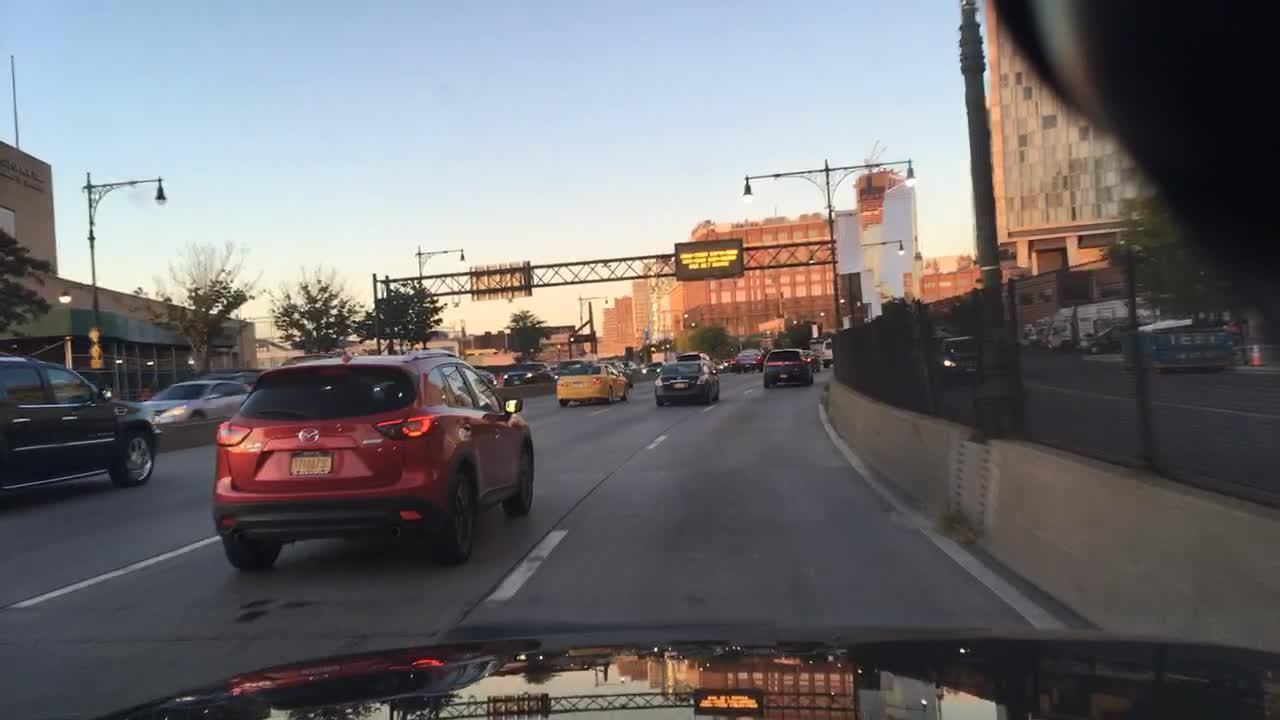Mazda: (296, 423, 321, 449)
